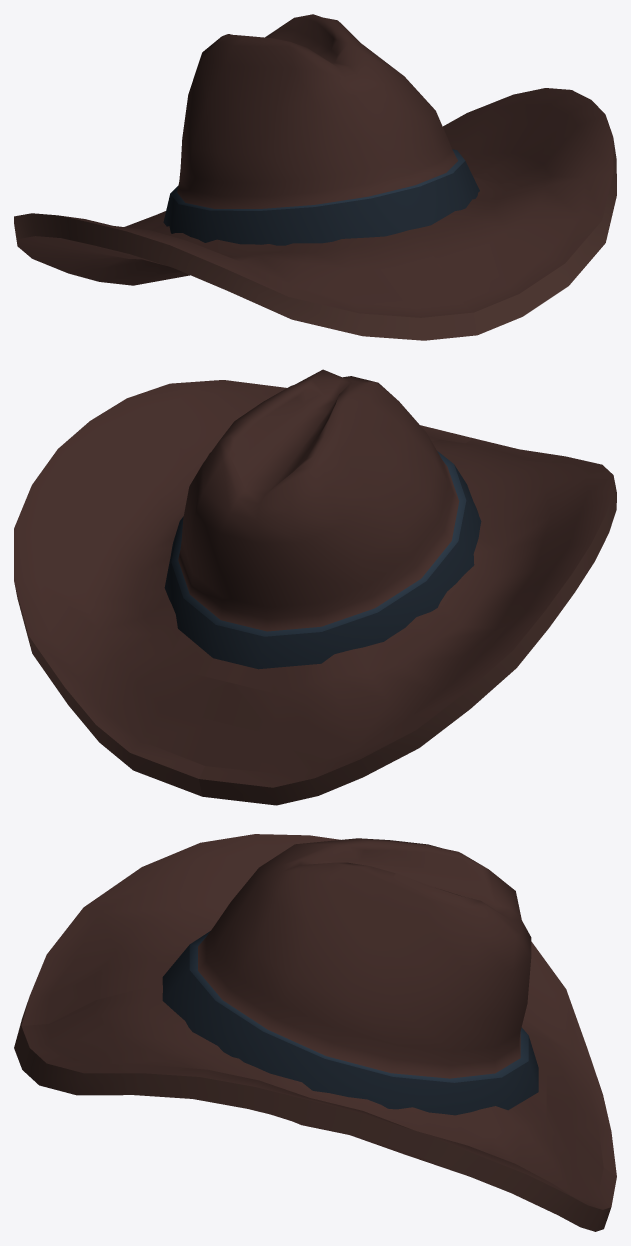
File: mu cao boi.fbx
The picture shows the model from 3 angles, top to bottom: view 1: azimuth 30°, elevation 25°; view 2: azimuth 150°, elevation 25°; view 3: azimuth 270°, elevation 25°; orthographic projection. The views are drawn at different scales.
Visible parts, largest first — view 1: mu_cao_boi; view 2: mu_cao_boi; view 3: mu_cao_boi.
Boxes of the visible parts, <box> form: mu_cao_boi: <box>14,14,616,340</box>; mu_cao_boi: <box>14,369,616,805</box>; mu_cao_boi: <box>14,834,616,1231</box>.
Size of the model in its own units: 148 by 88.01 by 139.
